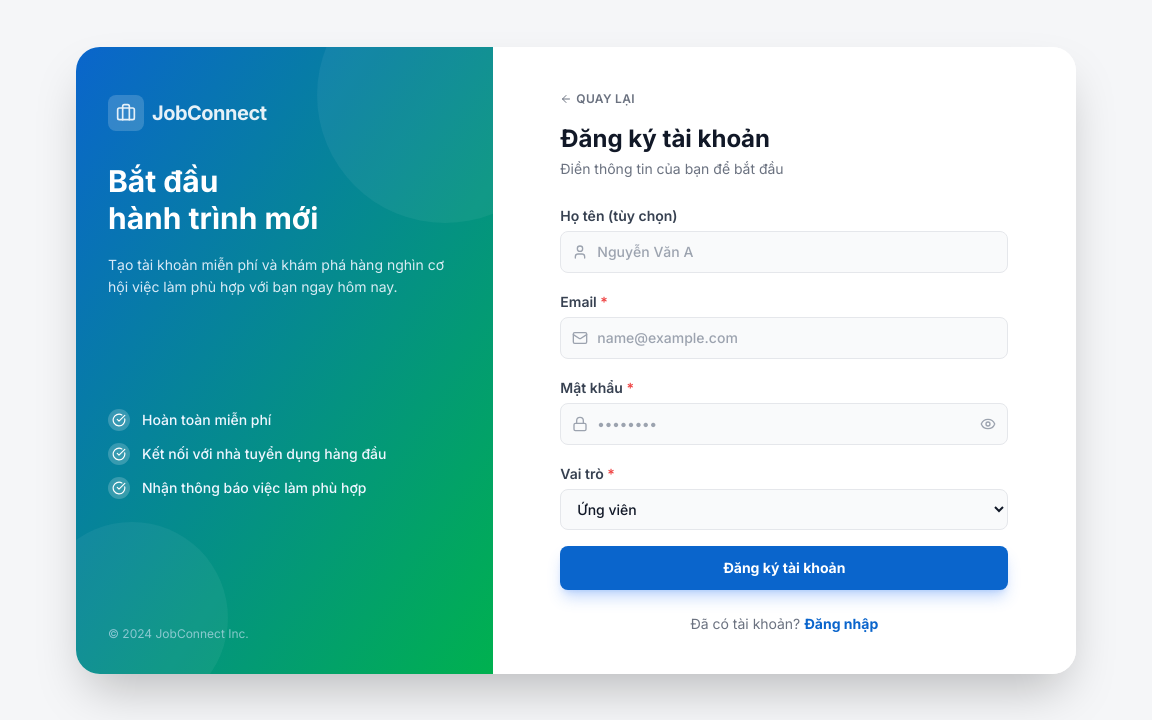
Test: Register page › shows backend error message when registration fails
The width and height of the screenshot is (1152, 720).
Type "new@example.com" into the field labelled "Email *" at (784, 338), box x1=560 y1=316 x2=1008 y2=358
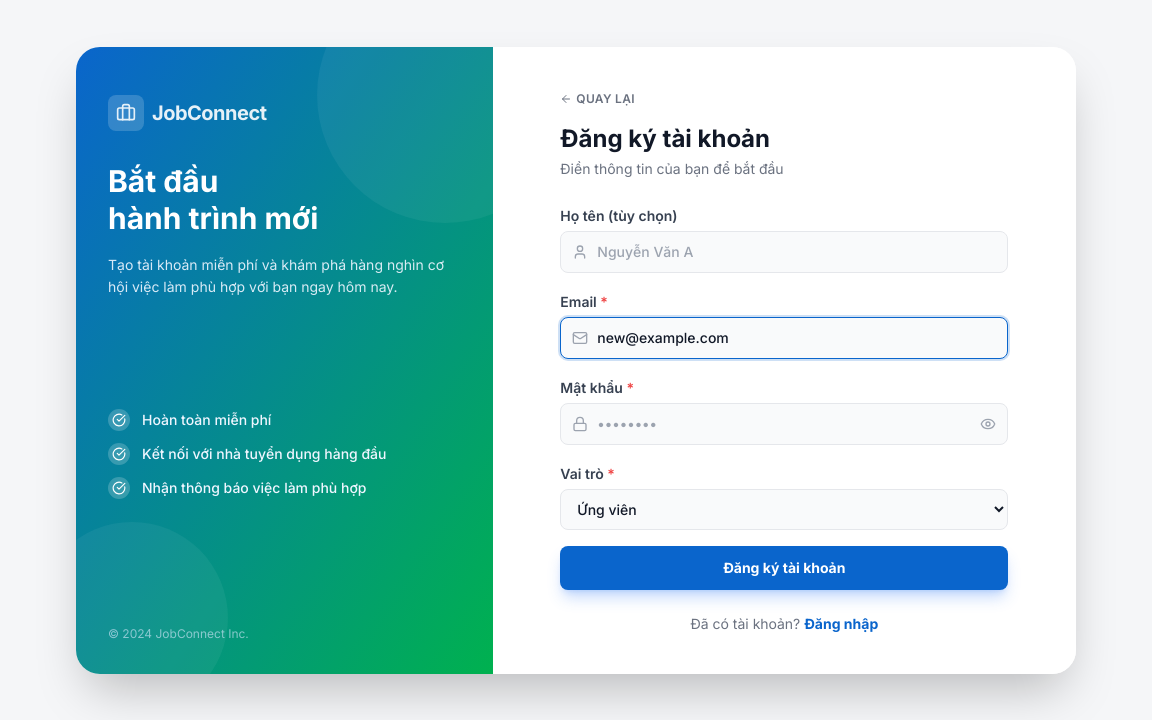
Type "secret123" into the password field labelled "Mật khẩu *" at (784, 424), box x1=560 y1=402 x2=1008 y2=444
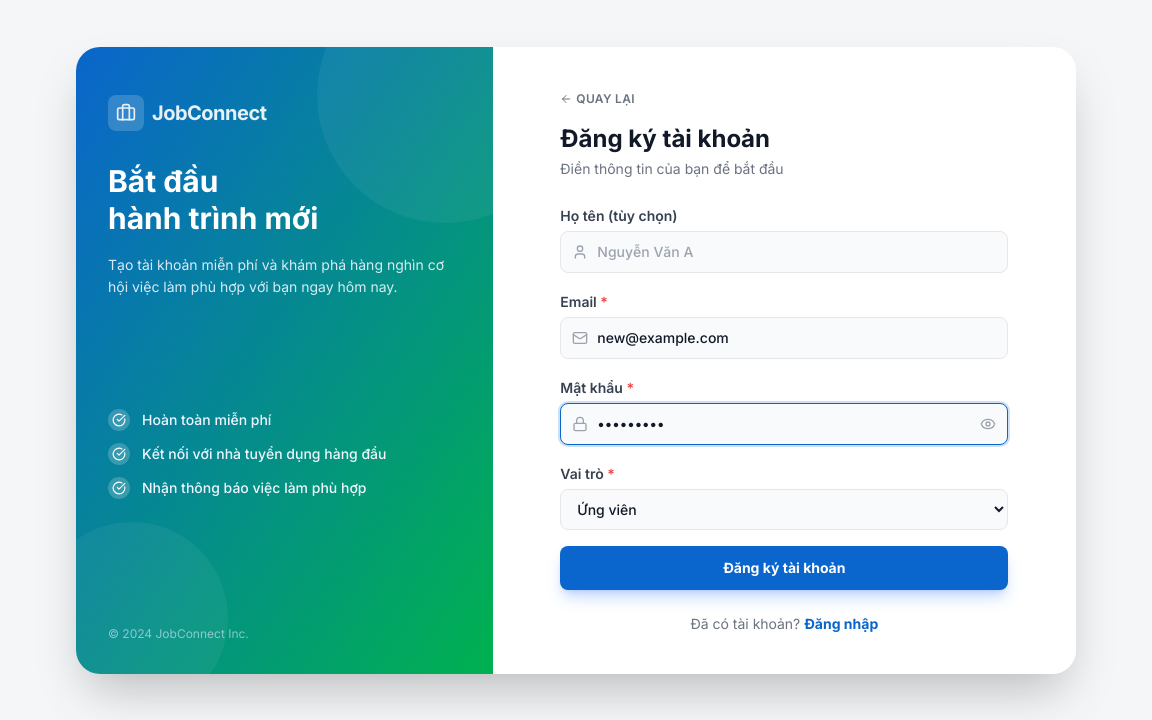
Select "Nhà tuyển dụng" in the dropdown labelled "Vai trò *" at (784, 509), box x1=560 y1=488 x2=1008 y2=530
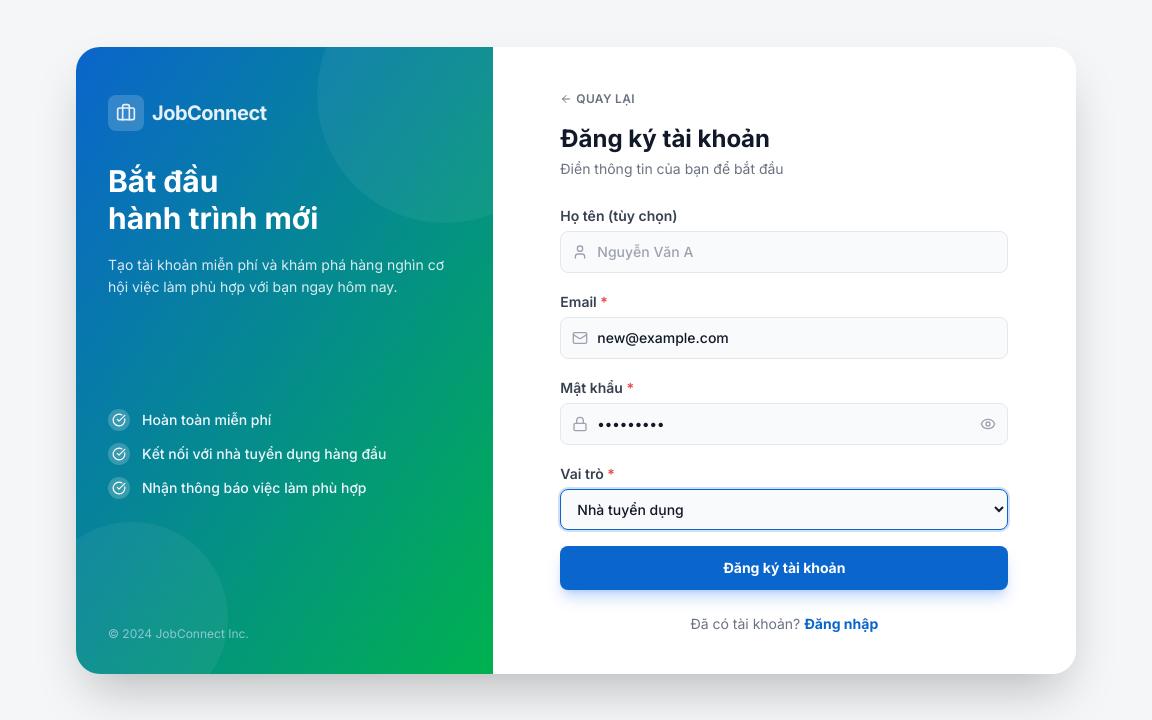
Click the button "Đăng ký tài khoản" at (784, 568), box x1=560 y1=546 x2=1008 y2=590
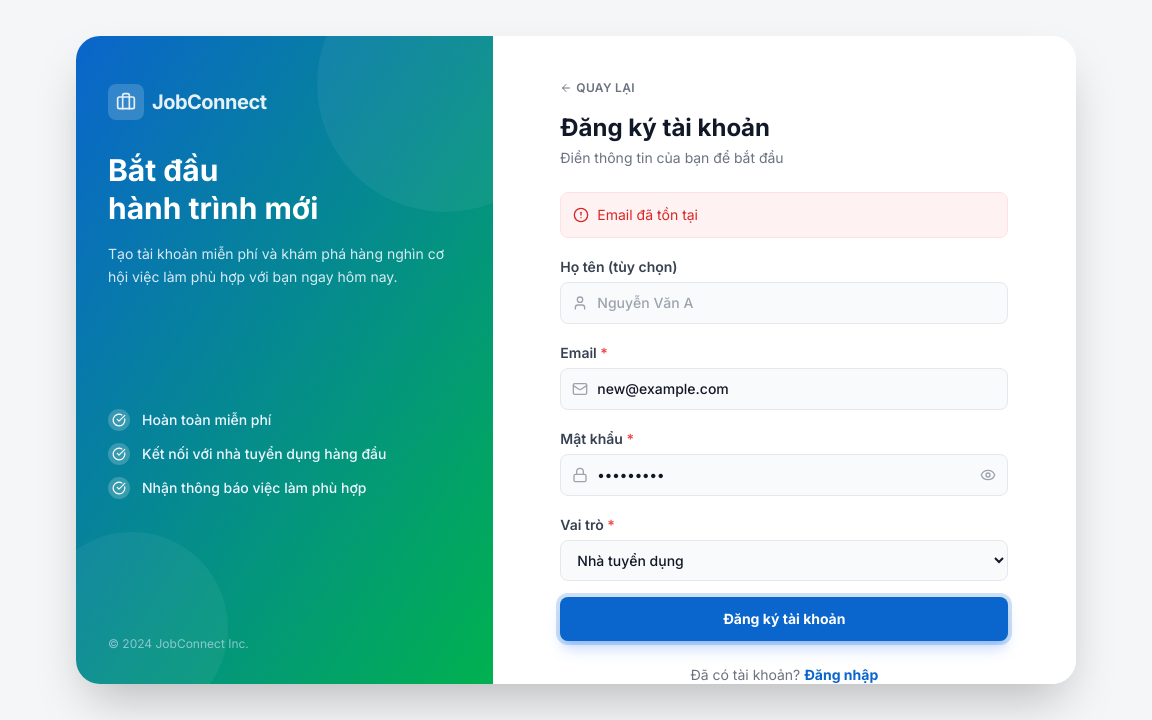
Now the text "Email đã tồn tại" is shown, box x1=597 y1=205 x2=698 y2=225
